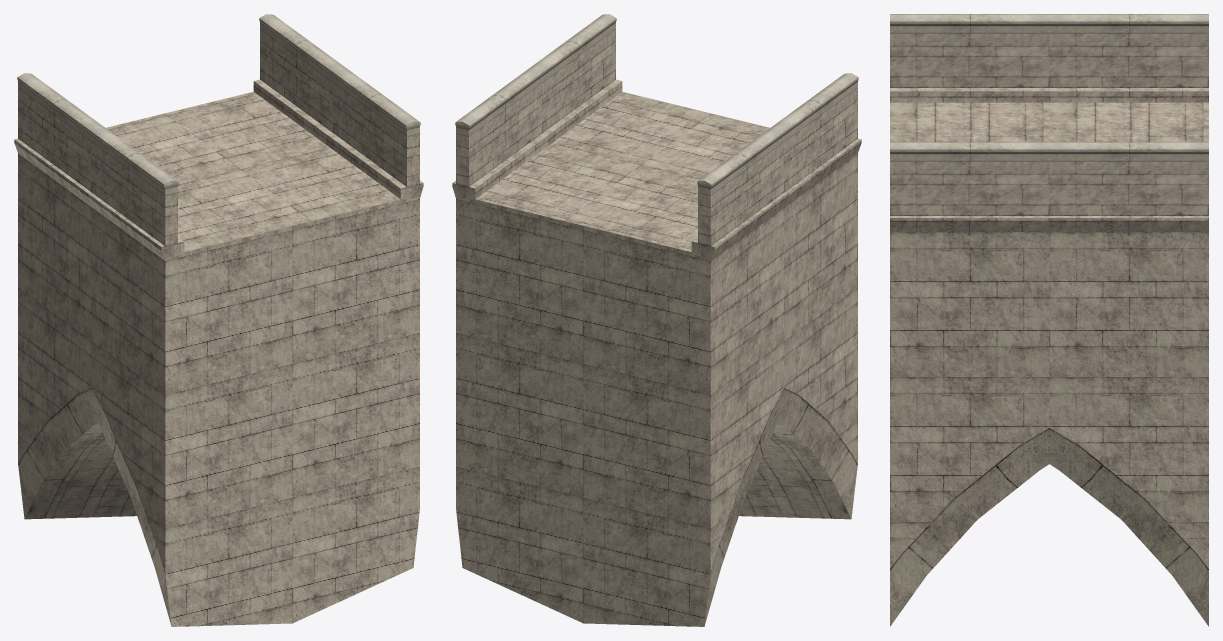
File: DoubleAbutmentMarble.dae
3 views of the same model, side by side, from view 1: azimuth 30°, elevation 25°; view 2: azimuth 150°, elevation 25°; view 3: azimuth 270°, elevation 25° (orthographic). The views are drawn at different scales.
Visible parts, largest first — view 1: DoubleAbutmentMarble; view 2: DoubleAbutmentMarble; view 3: DoubleAbutmentMarble.
Boxes of the visible parts, x1,y1,x2,y2 form: DoubleAbutmentMarble: (14,14,423,626); DoubleAbutmentMarble: (452,14,861,626); DoubleAbutmentMarble: (890,14,1208,626).
Size of the model in its own units: 4.12 by 7.09 by 4.
2 materials, 2 textured.
